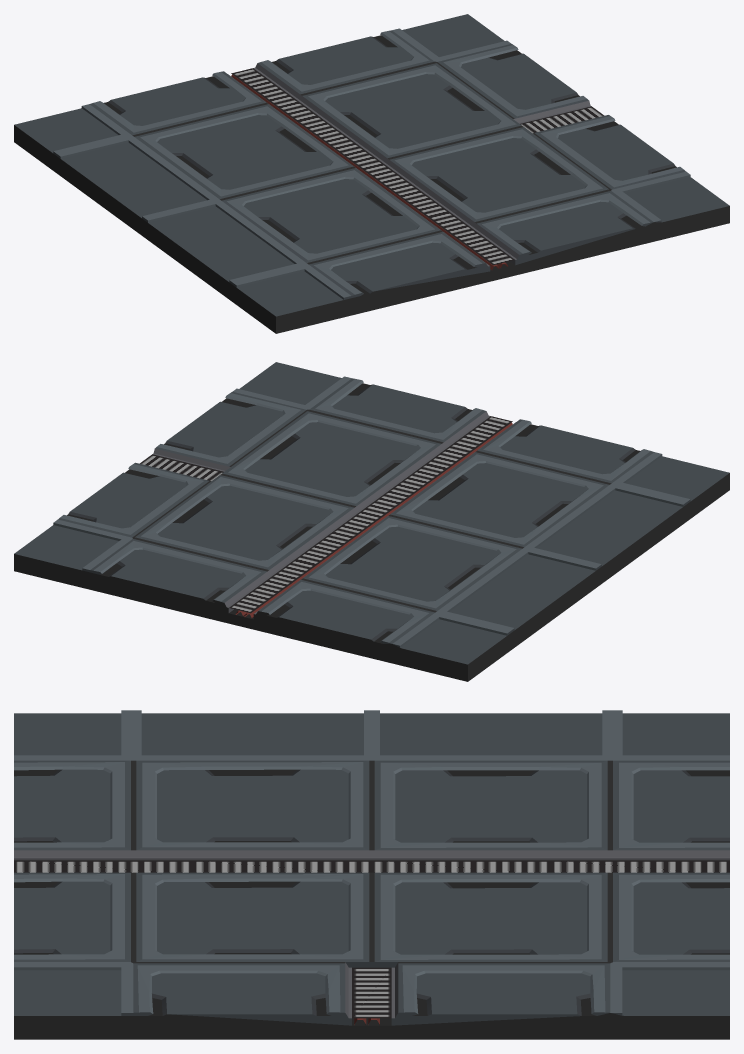
File: SM_Bld_Floor_06.fbx
3 views of the same model, one above another, from view 1: azimuth 30°, elevation 25°; view 2: azimuth 150°, elevation 25°; view 3: azimuth 270°, elevation 25° (orthographic). The views are drawn at different scales.
Visible parts, largest first — view 1: SM_Bld_Floor_06; view 2: SM_Bld_Floor_06; view 3: SM_Bld_Floor_06.
Boxes of the visible parts, x1,y1,x2,y2 form: SM_Bld_Floor_06: (14,14,729,333); SM_Bld_Floor_06: (14,362,729,681); SM_Bld_Floor_06: (14,710,729,1039).
Bounding box in the file's own units: 500 × 21.2 × 500.
1 material, 1 textured.
